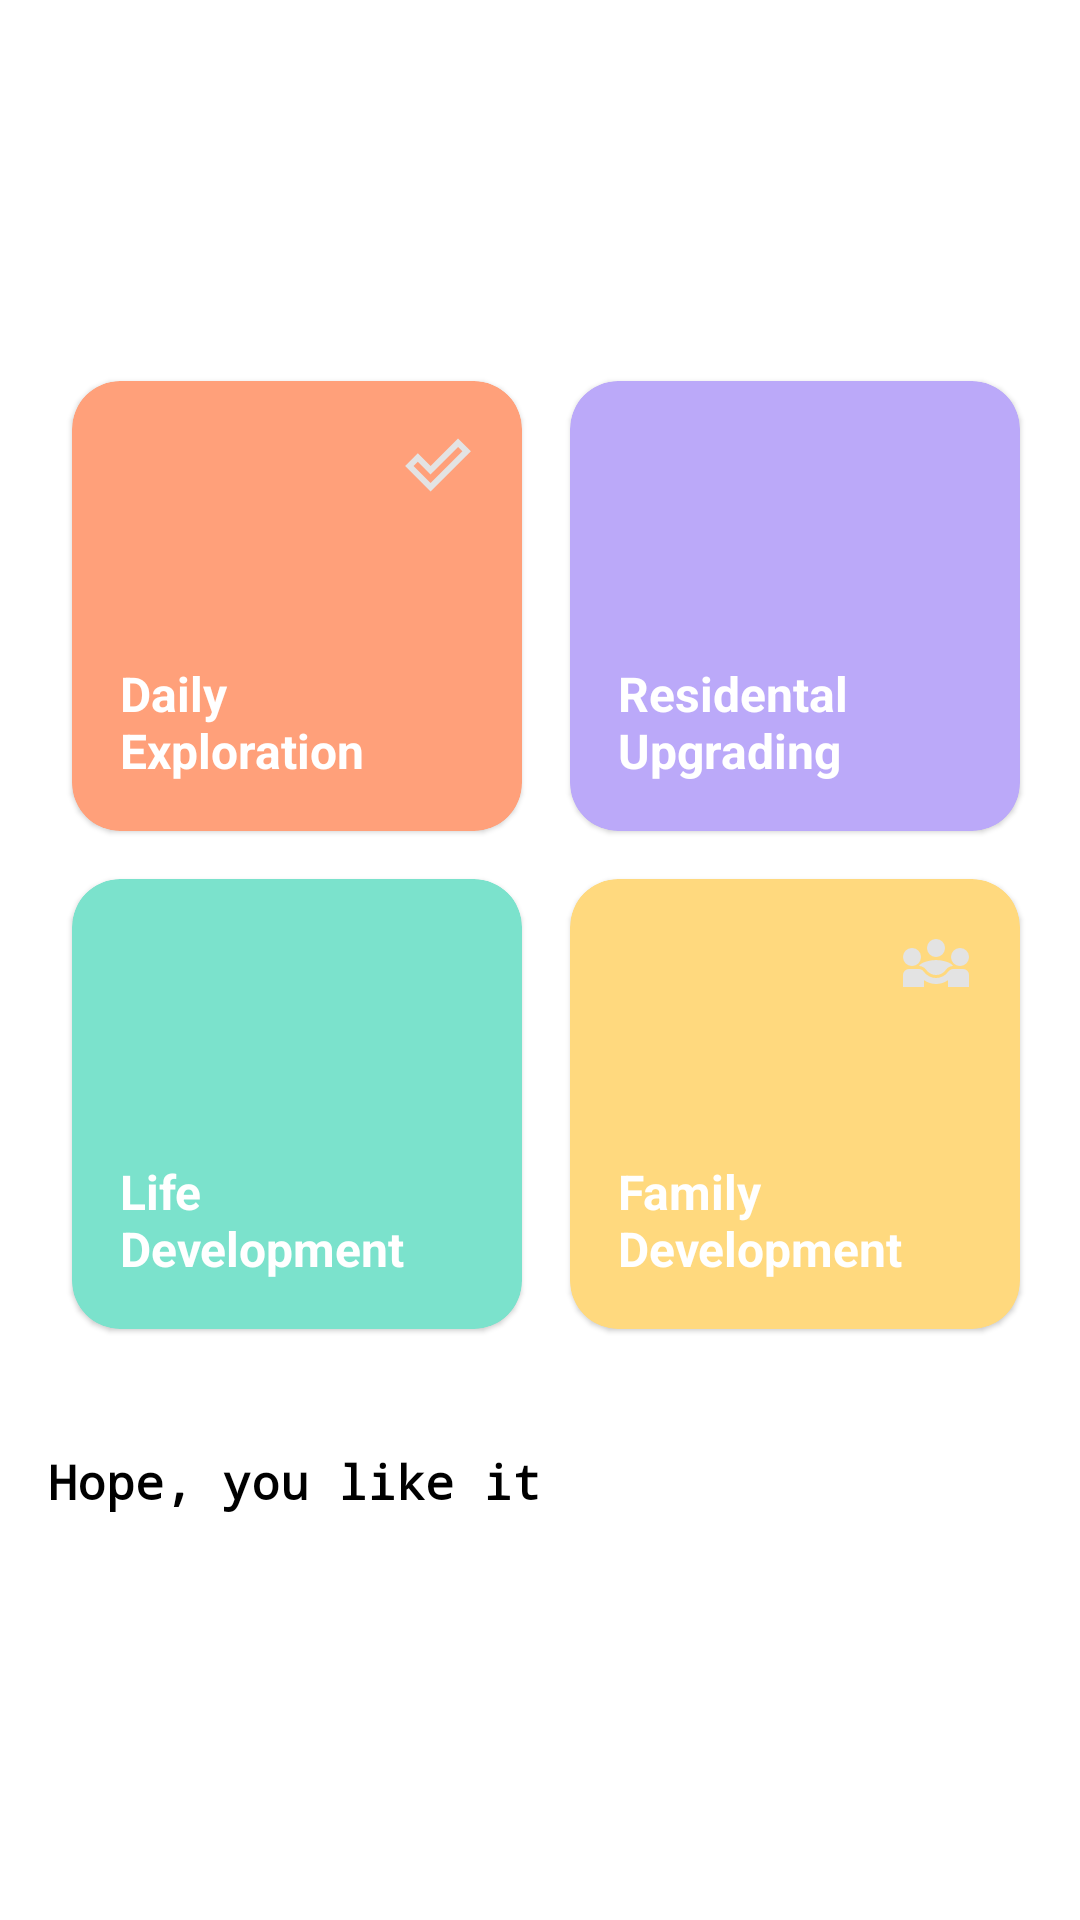

Icon click points for this 1080 × 1920 phone screenshot, format point (x, y):
check: point (438, 465)
community: point (936, 963)
